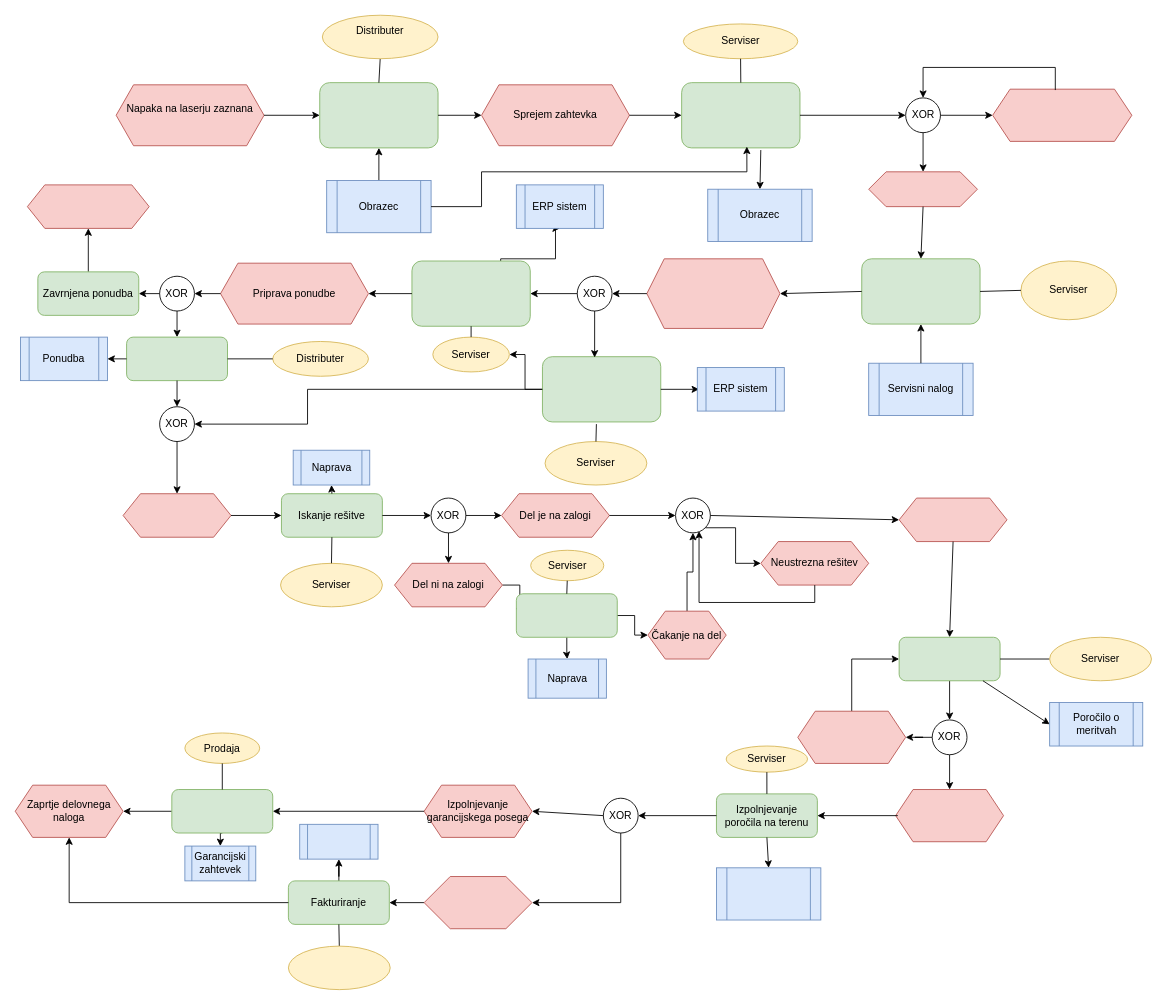
Image size: 1167x1005. Some labels were removed from this diagram. Each missing label, with the centre of its shape:
"Dodeljevanje serviserja" belongs at (176,515).
"Faktura" belongs at (338,841).
"Finance" belongs at (339,967).
"Izdelek je v garanciji" belongs at (601,389).
"Izdelek ni v garanciji" belongs at (470,293).
"Izpolnjevanje manjkajočih podatkov" belongs at (1062,114).
"Izpolnjevanje negarancijskega posega" belongs at (477,902).
"Kalibracija neuspešna" belongs at (851,736).
"Kalibracija sistema" belongs at (949,658).
"Kalibracija uspešna" belongs at (949,815).
"Končan postopek" belongs at (88,206).
"Naročanje dela" belongs at (566,615).
"Obrazec izpopoplnjen" belongs at (922,189).
"Odprtje servisnega naloga" belongs at (920,291).
"Poročilo na terenu" belongs at (768,893).
"Preverjanje obrazca" belongs at (740,115).
"Prijava in vnos napake" belongs at (378,115).
"Servisni nalog odprt" belongs at (713,293).
"Sprejeta ponudba" belongs at (177,358).
"Ustrezna rešitev" belongs at (952,519).
"Zaprtje garancijskega zahtevka" belongs at (222,811).
